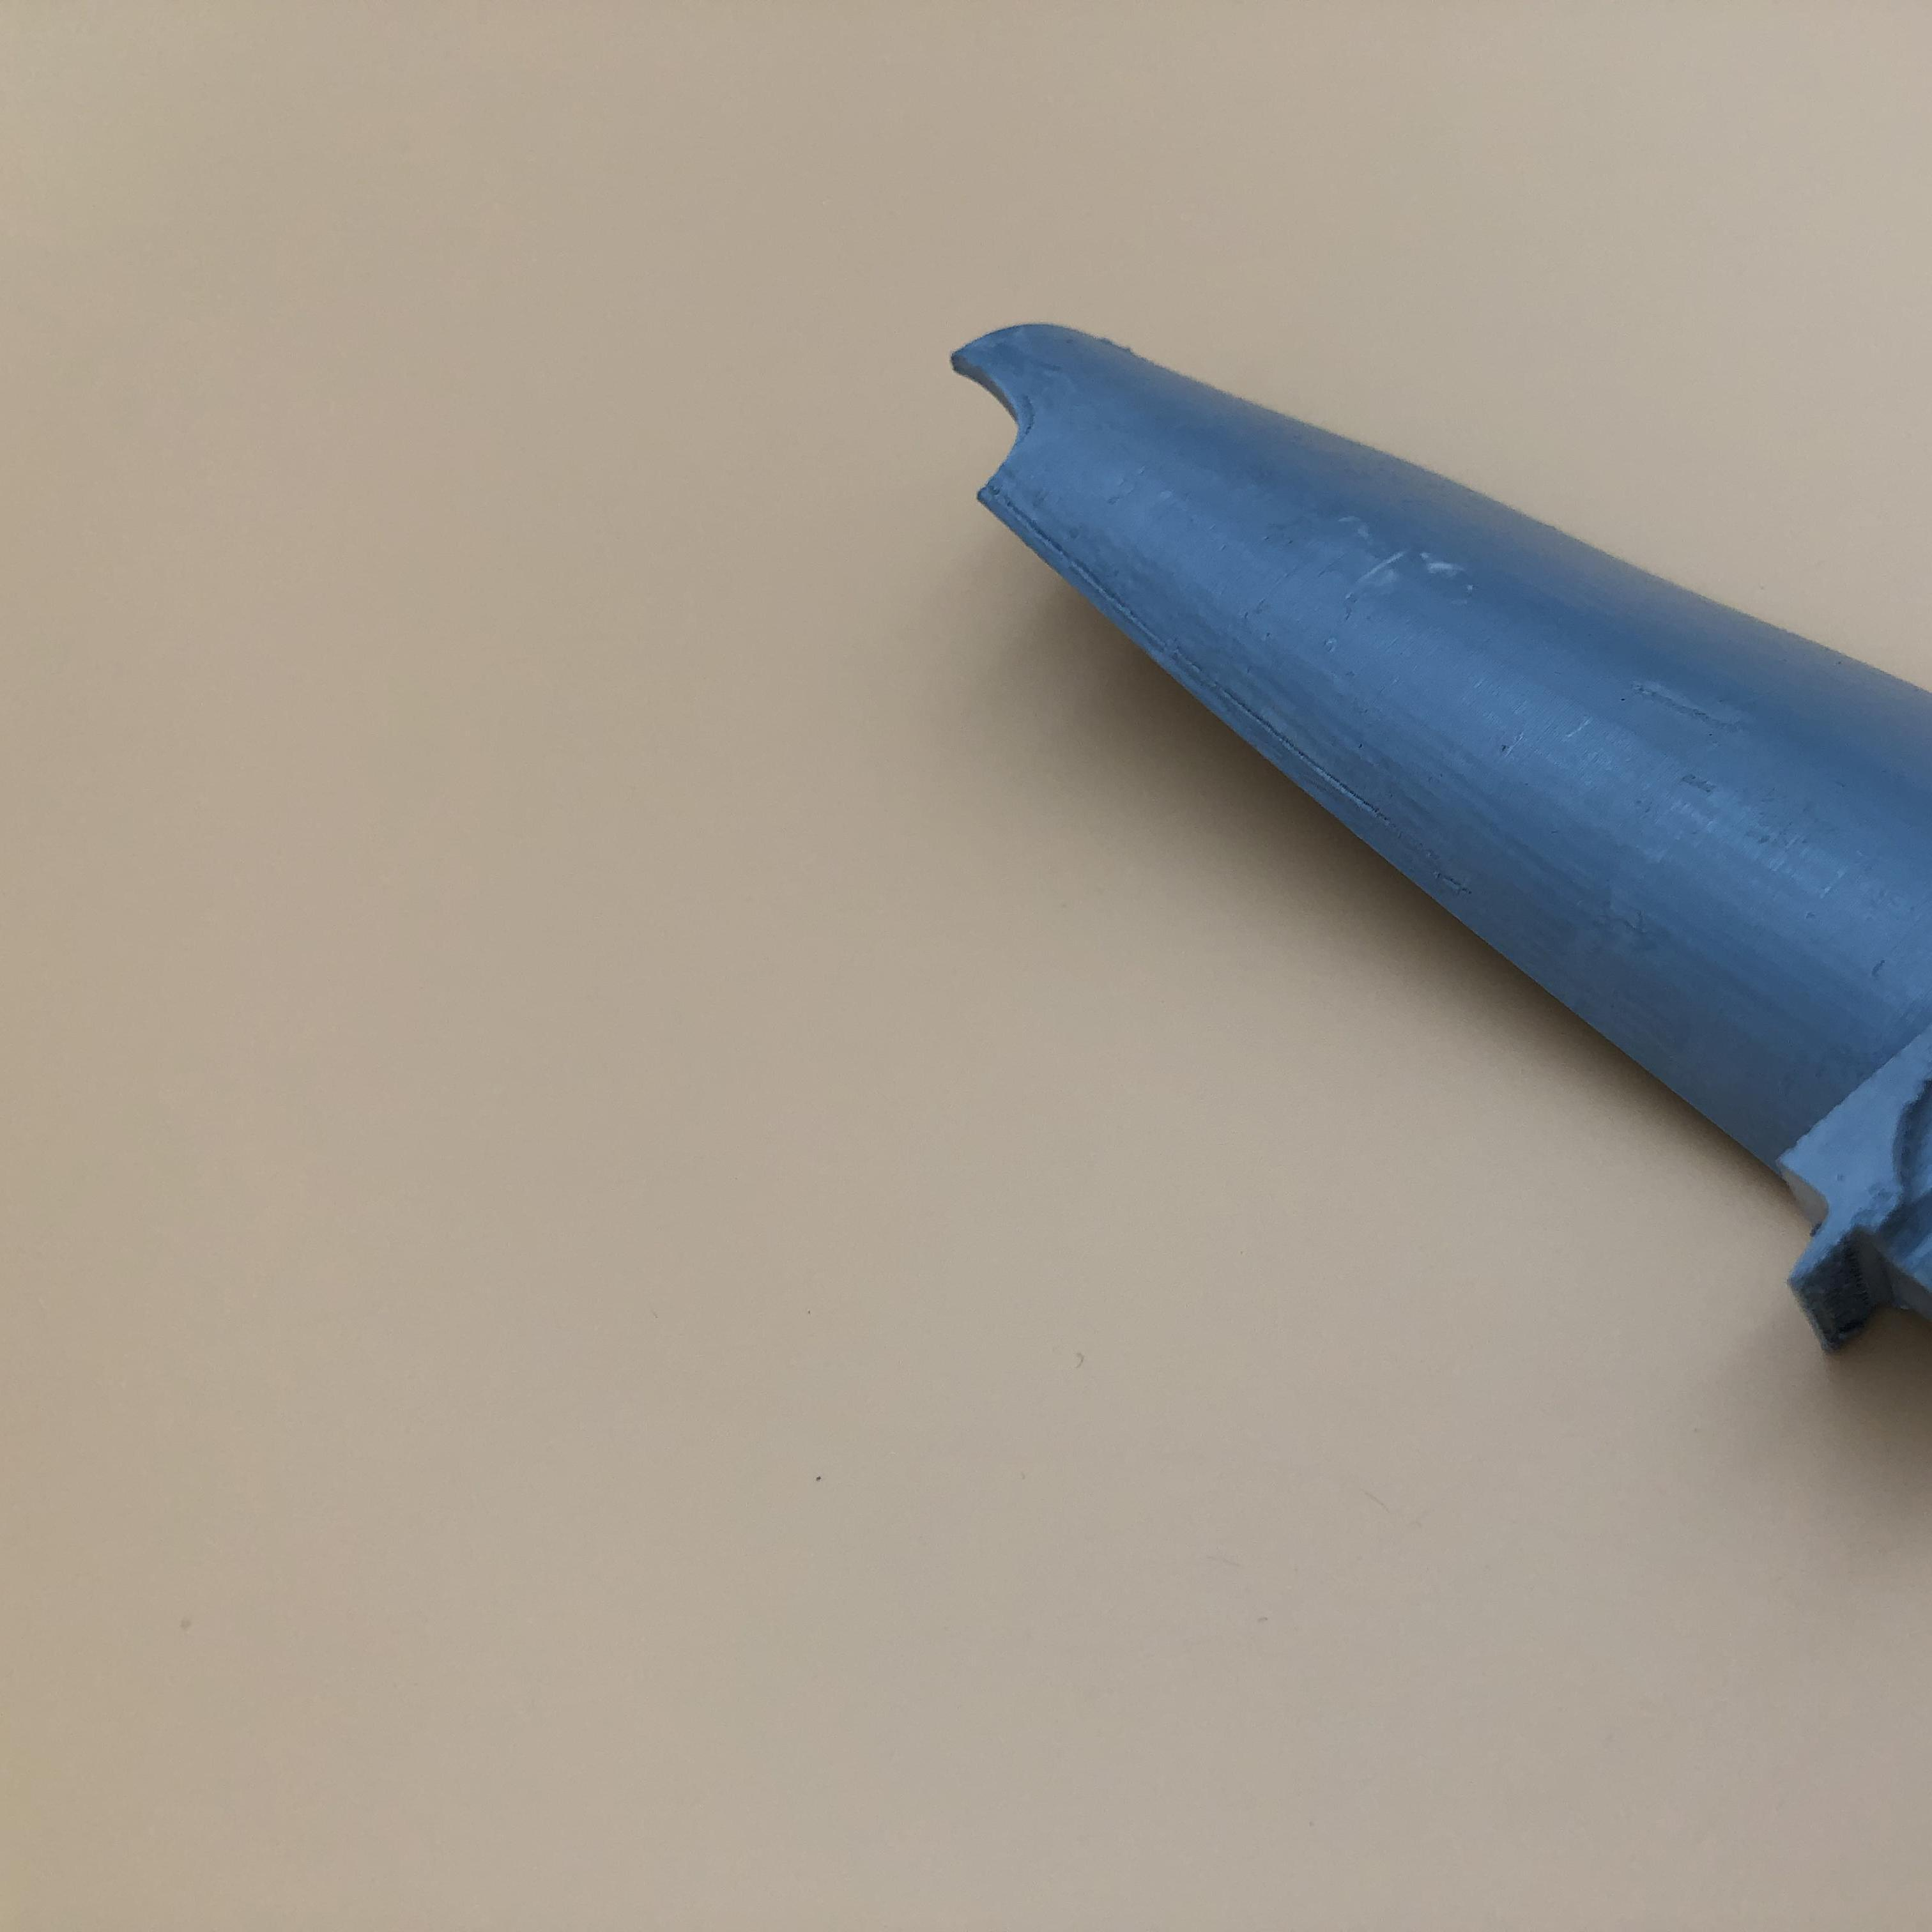fracture: (945, 363, 1056, 497)
